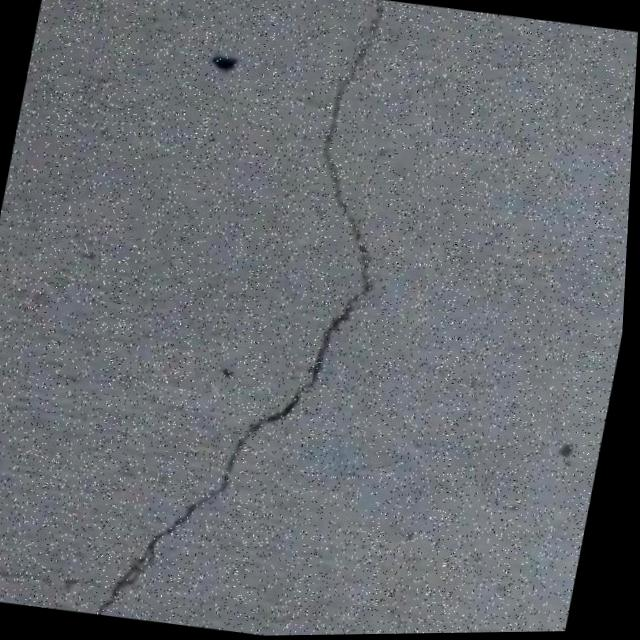Crack: (85, 0, 437, 639)
